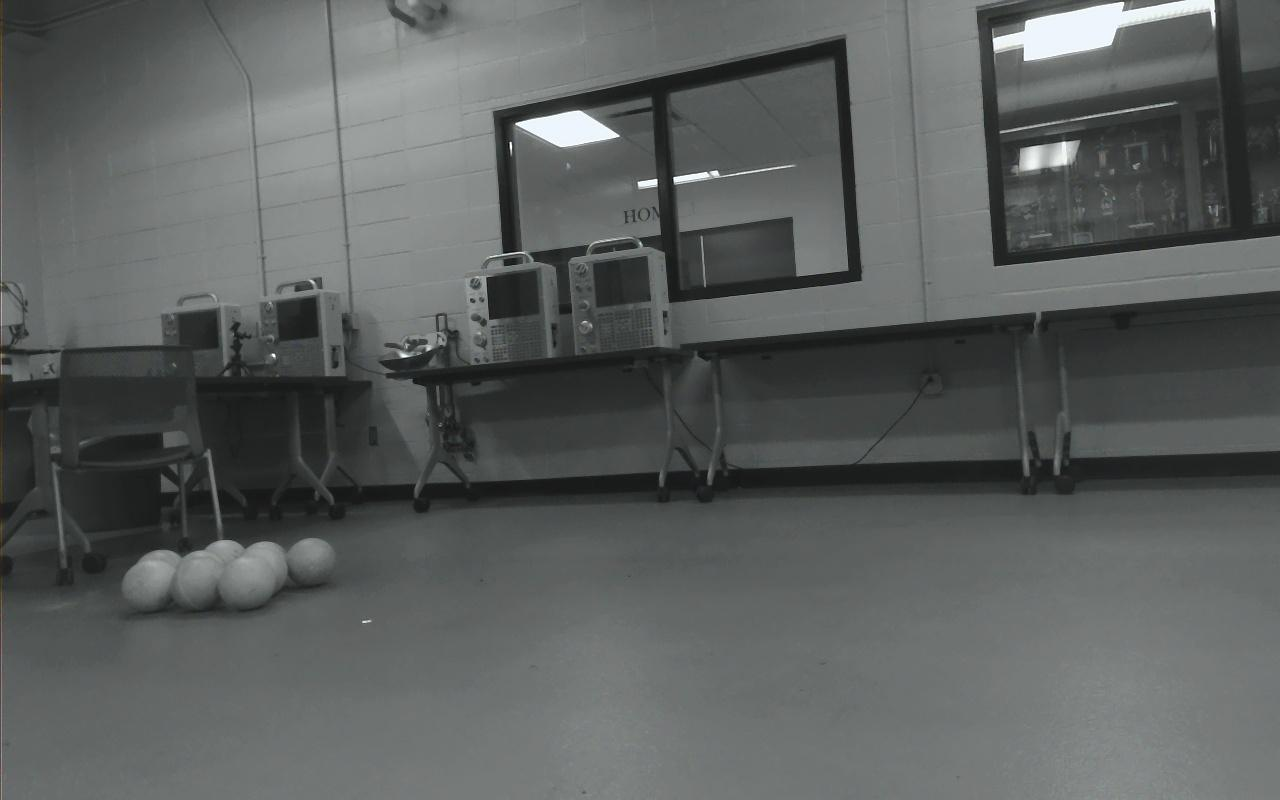Fuel: (219, 558, 275, 610), (122, 560, 175, 614), (172, 559, 224, 613), (288, 538, 337, 587), (237, 546, 287, 594), (246, 541, 292, 588), (138, 549, 183, 594), (180, 549, 225, 592), (204, 539, 247, 574)
